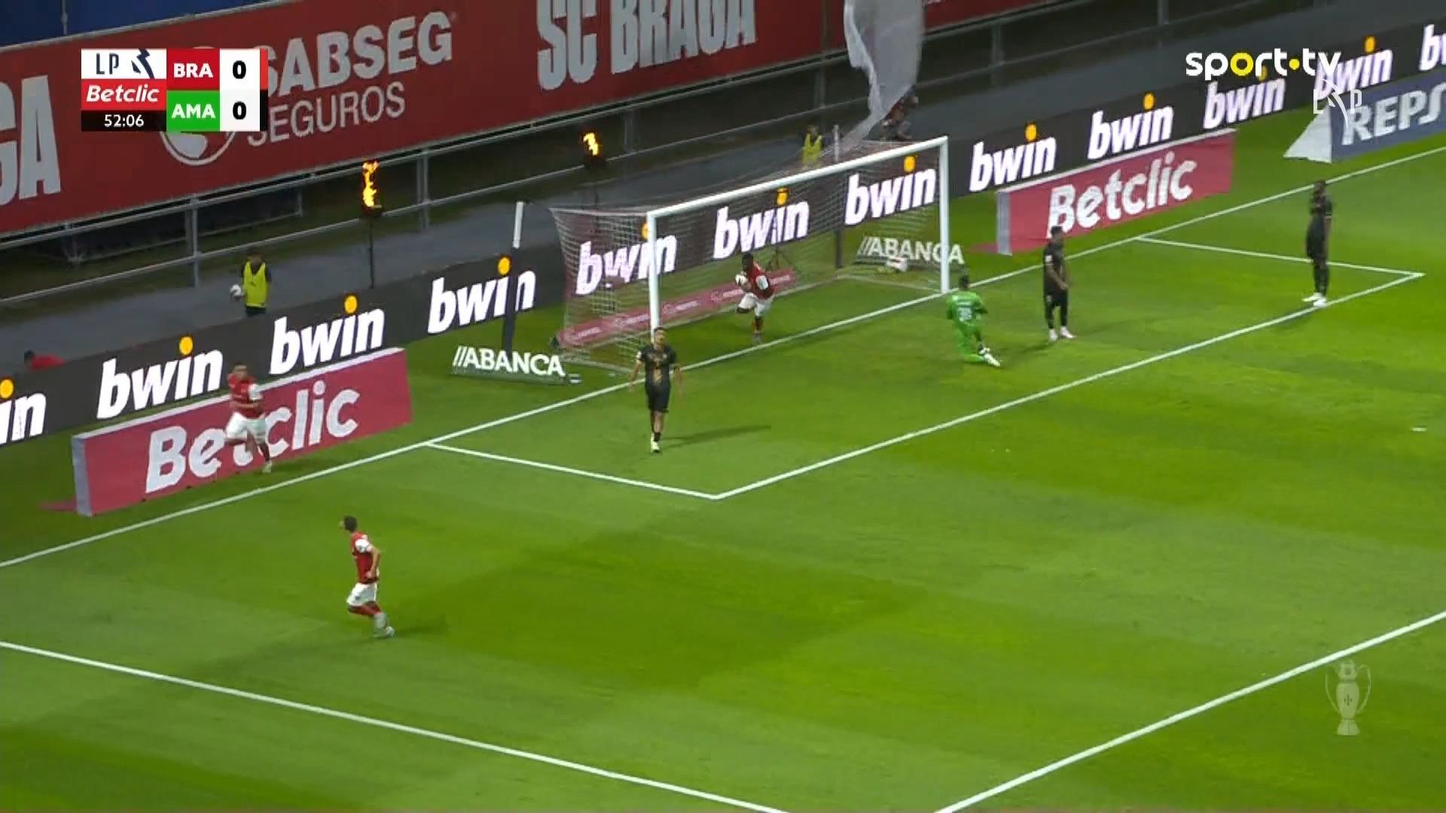ball: (734, 273, 749, 288)
goalkeeper: (944, 273, 1001, 367)
player: (337, 514, 395, 638), (627, 325, 683, 453), (223, 361, 273, 473), (1301, 178, 1334, 306), (1040, 224, 1075, 342), (734, 249, 774, 344)
